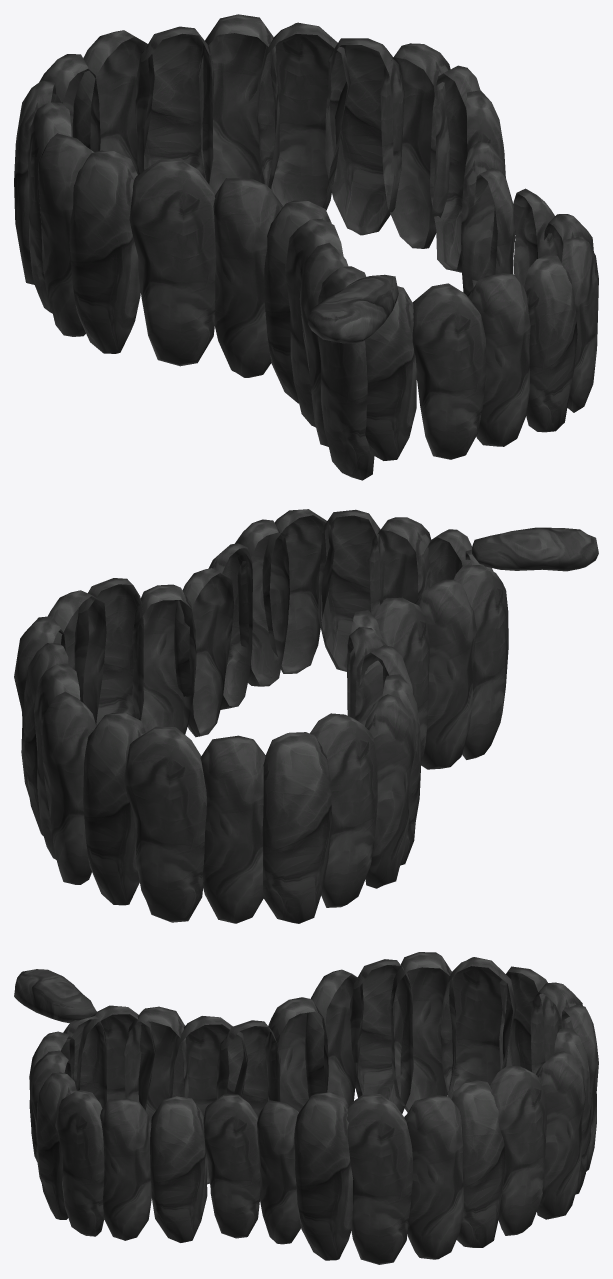
The model's file is FILowerBorderStonesShape.dae.
3 renders of one model, top to bottom at view 1: azimuth 30°, elevation 25°; view 2: azimuth 150°, elevation 25°; view 3: azimuth 270°, elevation 25°, orthographic. The views are drawn at different scales.
Visible parts, largest first — view 1: FILowerBorderStones; view 2: FILowerBorderStones; view 3: FILowerBorderStones.
Boxes of the visible parts, x1,y1,x2,y2 form: FILowerBorderStones: (14, 14, 598, 480); FILowerBorderStones: (14, 509, 598, 923); FILowerBorderStones: (14, 952, 598, 1264).
Bounding box in the file's own units: 89.07 × 46.77 × 134.
